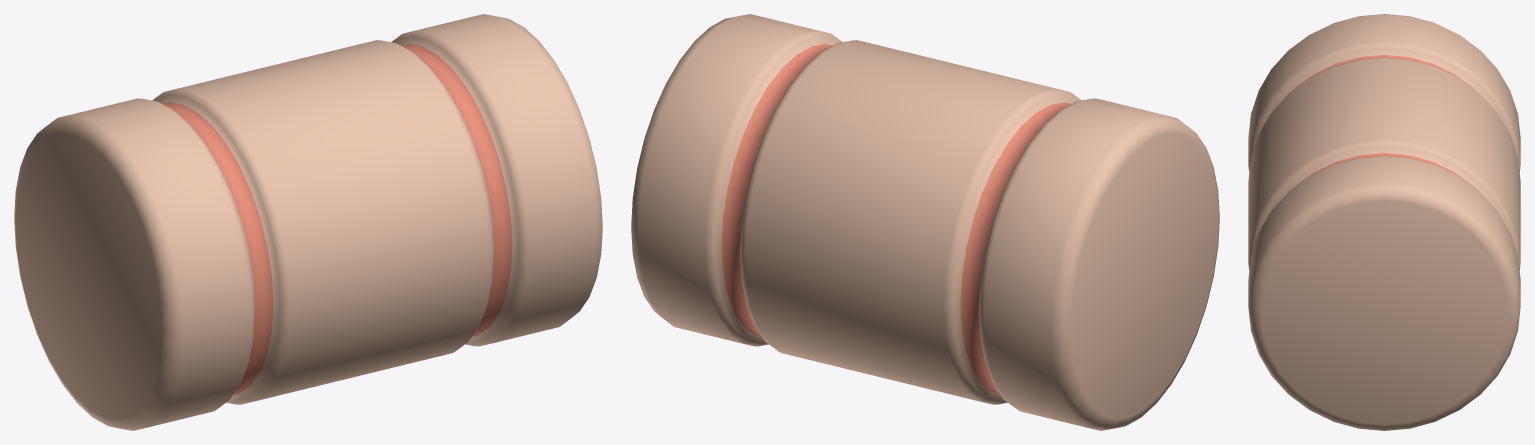
Rendered from Haybale.fbx.
3 views of the same model, side by side, from view 1: azimuth 30°, elevation 25°; view 2: azimuth 150°, elevation 25°; view 3: azimuth 270°, elevation 25° (orthographic). The views are drawn at different scales.
Parts seen in each view (by area): view 1: HayBale; view 2: HayBale; view 3: HayBale.
Part boxes in pixels (x1,y1,x2,y2): HayBale: [14, 14, 602, 430]; HayBale: [631, 14, 1219, 430]; HayBale: [1248, 14, 1520, 430].
Size of the model in its own units: 4.7 by 3 by 3.
